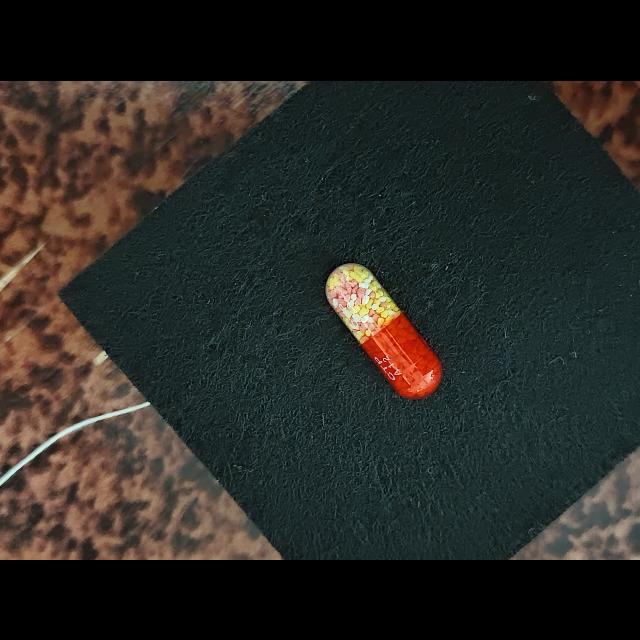Intact Capsule: (325, 263, 442, 398)
